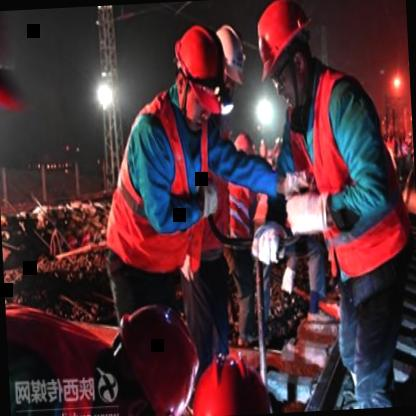helmet: (95, 291, 210, 416), (251, 0, 322, 102), (173, 21, 234, 130), (208, 19, 244, 82)
